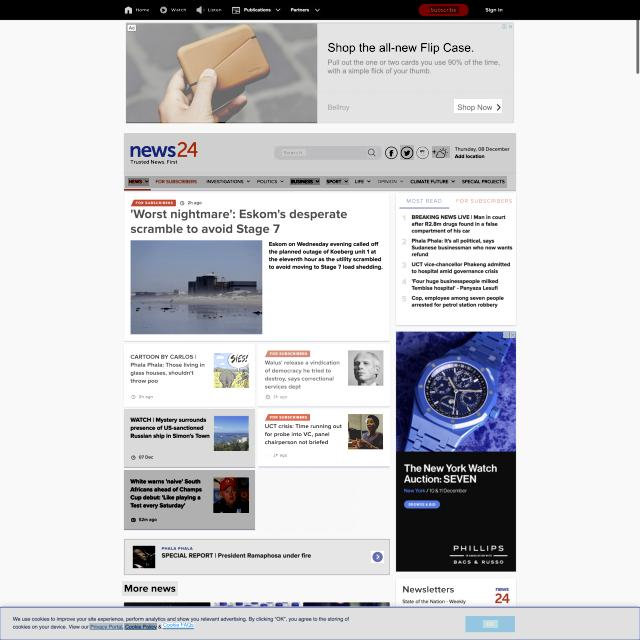CheckBox: (465, 614, 516, 634), (416, 3, 470, 17), (454, 99, 502, 113), (89, 623, 123, 630), (124, 623, 157, 630), (400, 145, 414, 160), (162, 624, 195, 630), (384, 146, 398, 160), (416, 145, 429, 160), (485, 5, 504, 15), (371, 551, 384, 563)
CheckedTextView: (274, 146, 382, 160)
ImageView: (126, 22, 514, 123)
Input field: (266, 240, 384, 272), (11, 613, 352, 622)
RadioButton: (130, 198, 177, 208), (264, 415, 311, 424), (264, 350, 311, 358), (127, 25, 137, 31)
Spinner: (124, 344, 255, 407), (258, 344, 390, 406), (124, 470, 255, 530), (124, 409, 255, 468), (258, 410, 390, 468)
alert: (206, 178, 252, 185), (289, 5, 322, 14), (243, 6, 283, 13), (410, 178, 456, 184), (256, 178, 286, 185), (290, 178, 320, 185), (377, 178, 404, 185), (326, 178, 349, 185), (128, 178, 149, 185), (354, 178, 372, 184)
bag: (124, 133, 516, 191)
breadcrumbs: (122, 581, 178, 596), (402, 584, 457, 594)
carousel: (432, 146, 449, 158), (194, 5, 206, 16), (158, 5, 169, 15), (367, 147, 377, 158), (124, 5, 134, 15), (231, 5, 241, 15), (419, 149, 427, 157), (495, 103, 501, 111), (403, 150, 411, 156), (130, 394, 136, 400), (265, 394, 271, 400), (389, 150, 394, 156), (265, 454, 270, 460), (130, 455, 136, 460), (376, 554, 380, 560), (131, 518, 136, 522)
copy: (126, 23, 317, 122), (131, 240, 262, 334), (213, 352, 250, 389), (348, 350, 384, 386), (213, 416, 249, 452), (213, 477, 249, 513), (348, 416, 383, 452), (133, 546, 155, 568)
data feed: (430, 6, 459, 14), (282, 149, 306, 156), (483, 620, 498, 628)
date picker: (129, 140, 199, 167)
decoration: (125, 176, 507, 188), (121, 2, 326, 18)
header: (1, 606, 639, 640)
icon: (396, 193, 516, 209)
image: (127, 208, 350, 236)
